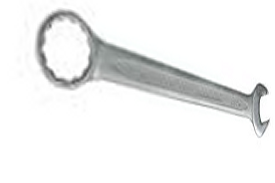Wrench: (30, 6, 273, 141)
